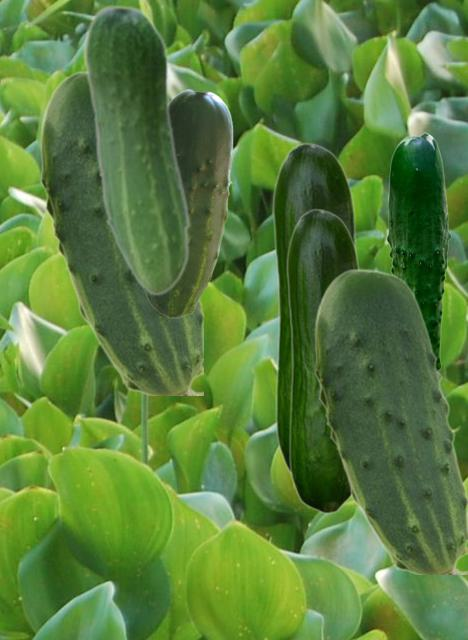cucumber: (40, 70, 202, 394), (314, 268, 466, 573), (83, 3, 190, 295), (272, 142, 358, 473), (286, 208, 361, 513), (143, 89, 232, 317), (386, 132, 450, 370)
